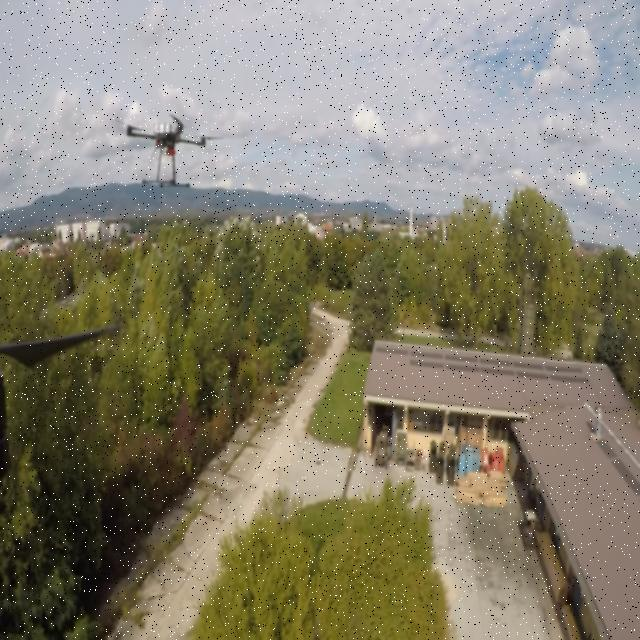UAV: (114, 110, 226, 193)
